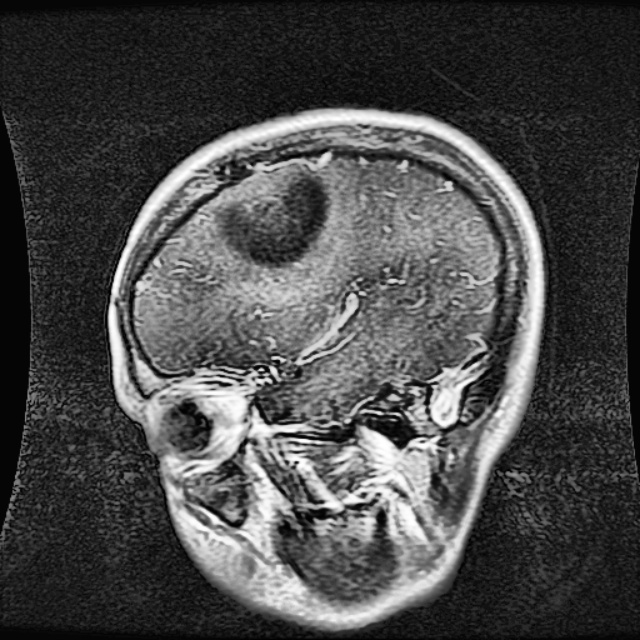Meningioma: (214, 169, 327, 265)
